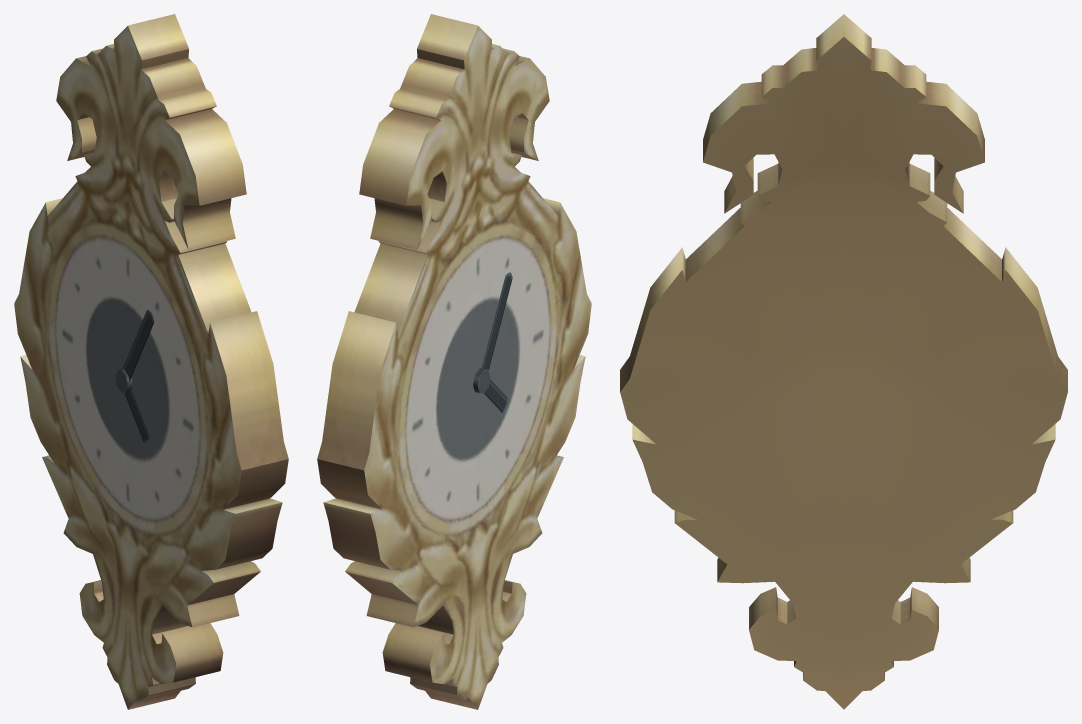
The model's file is my_teaparty_01_clock_01.glb.
The picture shows the model from 3 angles, left to right: view 1: azimuth 30°, elevation 25°; view 2: azimuth 150°, elevation 25°; view 3: azimuth 270°, elevation 25°; orthographic projection.
Visible parts, largest first — view 1: my_teaparty_01_clock_01; view 2: my_teaparty_01_clock_01; view 3: my_teaparty_01_clock_01.
Part boxes in pixels (x1,y1,x2,y2): my_teaparty_01_clock_01: [14, 14, 288, 709]; my_teaparty_01_clock_01: [317, 14, 591, 709]; my_teaparty_01_clock_01: [620, 14, 1067, 709].
Size of the model in its own units: 0.000725 by 0.00887 by 0.00535.
1 material, 1 textured.
